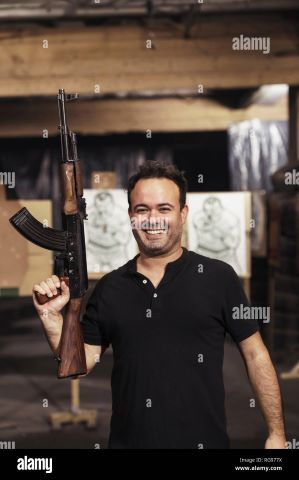rifle: (15, 85, 91, 375)
